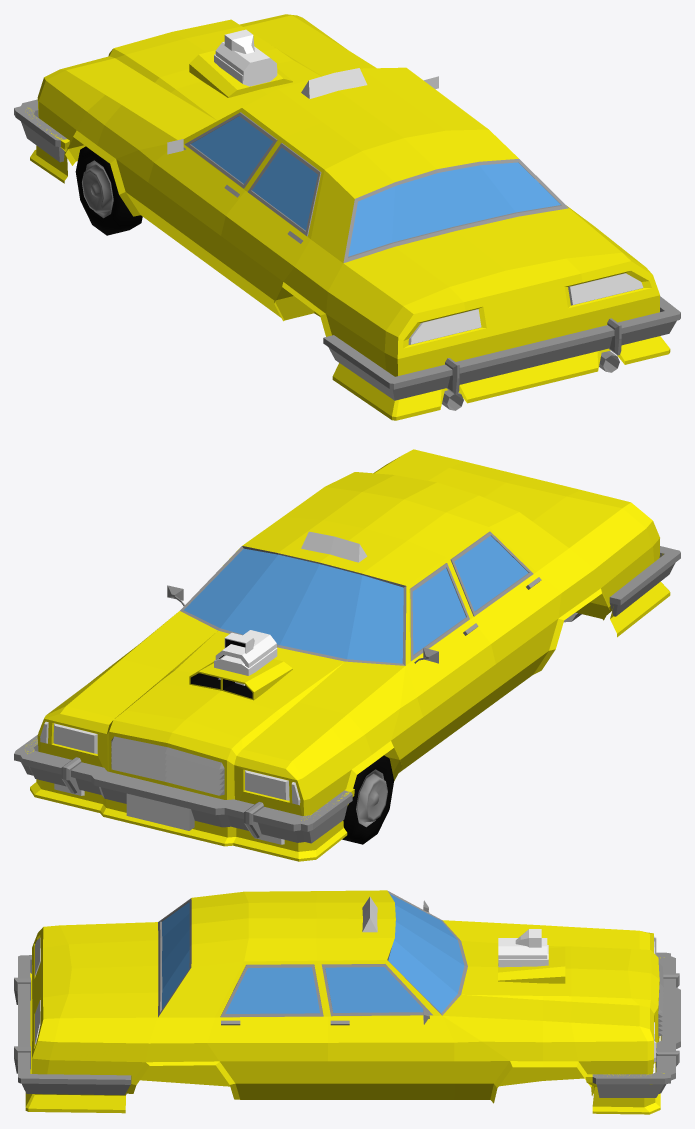
The model's file is taxi_export.fbx.
3 views of the same model, one above another, from view 1: azimuth 30°, elevation 25°; view 2: azimuth 150°, elevation 25°; view 3: azimuth 270°, elevation 25° (orthographic). The views are drawn at different scales.
Parts seen in each view (by area): view 1: Taxi, RearBumper1, RearBumper4, Wheel1, silnik3, FrontBumper1, silnik1, Logo, silnik2, FrontBumper4; view 2: Taxi, FrontBumper1, FrontBumper4, Grill1, Wheel1, silnik3, RearBumper1, RearBumper4, Logo, silnik2, silnik1, FrontBumper2; view 3: Taxi, RearBumper1, FrontBumper1, RearBumper4, silnik3, FrontBumper4, silnik1, silnik2, FrontBumper2, Logo, Grill1.
Boxes of the visible parts, x1,y1,x2,y2 form: Taxi: (37,14,659,376); RearBumper1: (323,296,680,400); RearBumper4: (332,336,670,420); Wheel1: (75,146,142,235); silnik3: (189,50,292,97); FrontBumper1: (14,99,66,162); silnik1: (215,41,276,86); Logo: (301,68,367,98); silnik2: (214,29,277,86); FrontBumper4: (26,107,69,183); Taxi: (37,449,659,815); FrontBumper1: (14,734,352,843); FrontBumper4: (25,738,354,861); Grill1: (111,736,224,795); Wheel1: (342,755,394,844); silnik3: (189,659,292,700); RearBumper1: (609,546,680,616); RearBumper4: (564,553,670,637); Logo: (301,531,367,562); silnik2: (214,632,277,685); silnik1: (215,630,276,667); FrontBumper2: (24,739,350,828); Taxi: (32,890,659,1103); RearBumper1: (14,955,131,1095); FrontBumper1: (592,952,680,1097); RearBumper4: (24,973,128,1113); silnik3: (498,947,565,983); FrontBumper4: (585,957,664,1114); silnik1: (498,938,547,966); silnik2: (498,929,548,967); FrontBumper2: (593,954,671,1077); Logo: (362,897,377,932); Grill1: (658,963,663,1036).
Size of the model in its own units: 156 by 99.05 by 350.
